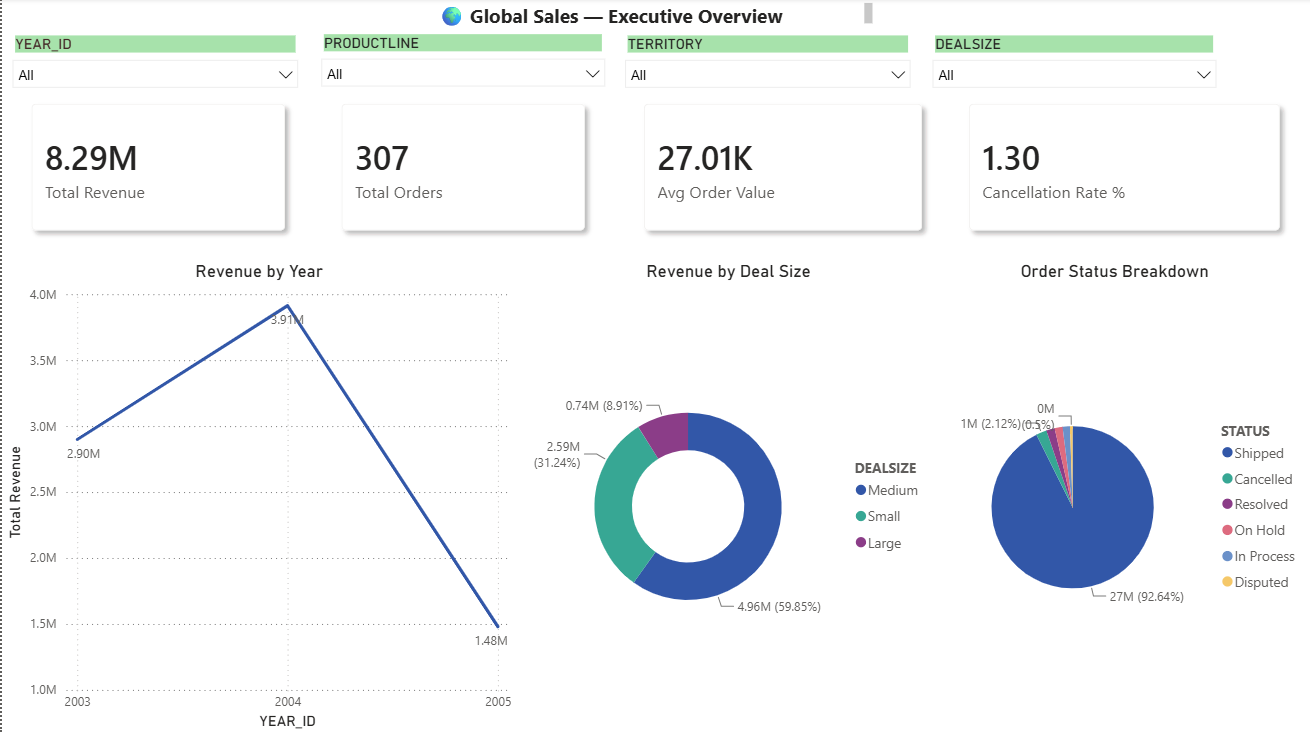

The dashboard page shown, as its layout file describes it:
{"tool":"powerbi","page":{"name":"Overview","canvas":[1280,720],"ordinal":0},"visuals":[{"type":"cardVisual","fields":{"Data":["_Measures.Total Orders"]},"box":[303.4,75,296.3,182],"z":0},{"type":"cardVisual","fields":{"Data":["Sales.Total Revenue"]},"box":[0,75,307,182],"z":1000},{"type":"cardVisual","fields":{"Data":["_Measures.Avg Order Value"]},"box":[599.7,75,330.2,182],"z":2000},{"type":"cardVisual","fields":{"Data":["_Measures.Cancellation Rate %"]},"box":[917.4,75,362.3,182],"z":3000},{"type":"lineChart","title":"Revenue by Year","fields":{"Category":["Sales.YEAR_ID"],"Y":["Sales.Total Revenue"]},"box":[0,257,503.3,464],"z":4000},{"type":"pieChart","title":"Order Status Breakdown","fields":{"Category":["Sales.STATUS"],"Y":["Sum(Sales.ORDERNUMBER)"]},"box":[897.7,257,381.9,464],"z":5000},{"type":"donutChart","title":"Revenue by Deal Size","fields":{"Category":["Sales.DEALSIZE"],"Y":["Sales.Total Revenue"]},"box":[503.3,257,414.1,462.3],"z":6000},{"type":"slicer","fields":{"Values":["Sales.YEAR_ID"]},"box":[0,32.1,299.8,58.9],"z":7000},{"type":"slicer","fields":{"Values":["Sales.PRODUCTLINE"]},"box":[301.6,30.3,298.1,58.9],"z":8000},{"type":"slicer","fields":{"Values":["Sales.TERRITORY"]},"box":[599.7,32.1,299.8,58.9],"z":9000},{"type":"slicer","fields":{"Values":["Sales.DEALSIZE"]},"box":[899.5,32.1,298.1,58.9],"z":10000},{"type":"textbox","box":[340.9,0,515.8,32.1],"z":11000}]}

Visuals, with their boxes in screenshot pixels (x1, y1, x2, y2), scaled from the page's 1280x720 canvas onto the 1310x732 screenshot:
cardVisual - _Measures.Total Orders: detection(311, 76, 614, 261)
cardVisual - Sales.Total Revenue: detection(0, 76, 314, 261)
cardVisual - _Measures.Avg Order Value: detection(614, 76, 952, 261)
cardVisual - _Measures.Cancellation Rate %: detection(939, 76, 1309, 261)
"Revenue by Year" lineChart: detection(0, 261, 515, 731)
"Order Status Breakdown" pieChart: detection(919, 261, 1309, 731)
"Revenue by Deal Size" donutChart: detection(515, 261, 939, 731)
slicer - Sales.YEAR_ID: detection(0, 33, 307, 93)
slicer - Sales.PRODUCTLINE: detection(309, 31, 614, 91)
slicer - Sales.TERRITORY: detection(614, 33, 921, 93)
slicer - Sales.DEALSIZE: detection(921, 33, 1226, 93)
textbox: detection(349, 0, 877, 33)
